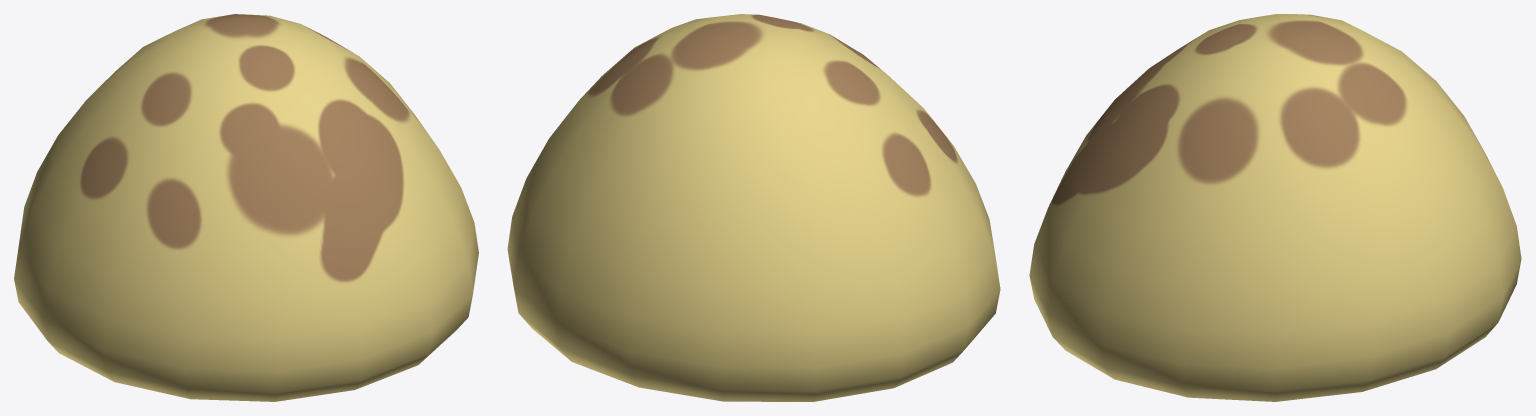
Rendered from pao de queijo.fbx.
The picture shows the model from 3 angles, left to right: view 1: azimuth 30°, elevation 25°; view 2: azimuth 150°, elevation 25°; view 3: azimuth 270°, elevation 25°; orthographic projection. The views are drawn at different scales.
Parts seen in each view (by area): view 1: Sphere; view 2: Sphere; view 3: Sphere.
Part boxes in pixels (left/top/right/bottom): Sphere: left=14, top=14, right=478, bottom=401; Sphere: left=507, top=14, right=1000, bottom=401; Sphere: left=1029, top=14, right=1521, bottom=401.
Size of the model in its own units: 1.56 by 1.04 by 1.56.
1 material, 1 textured.
